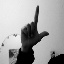l: (19, 4, 50, 44)
